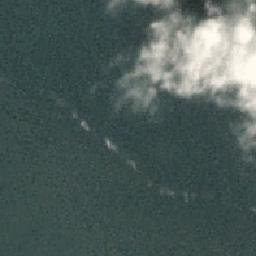cloud: (103, 6, 256, 133)
